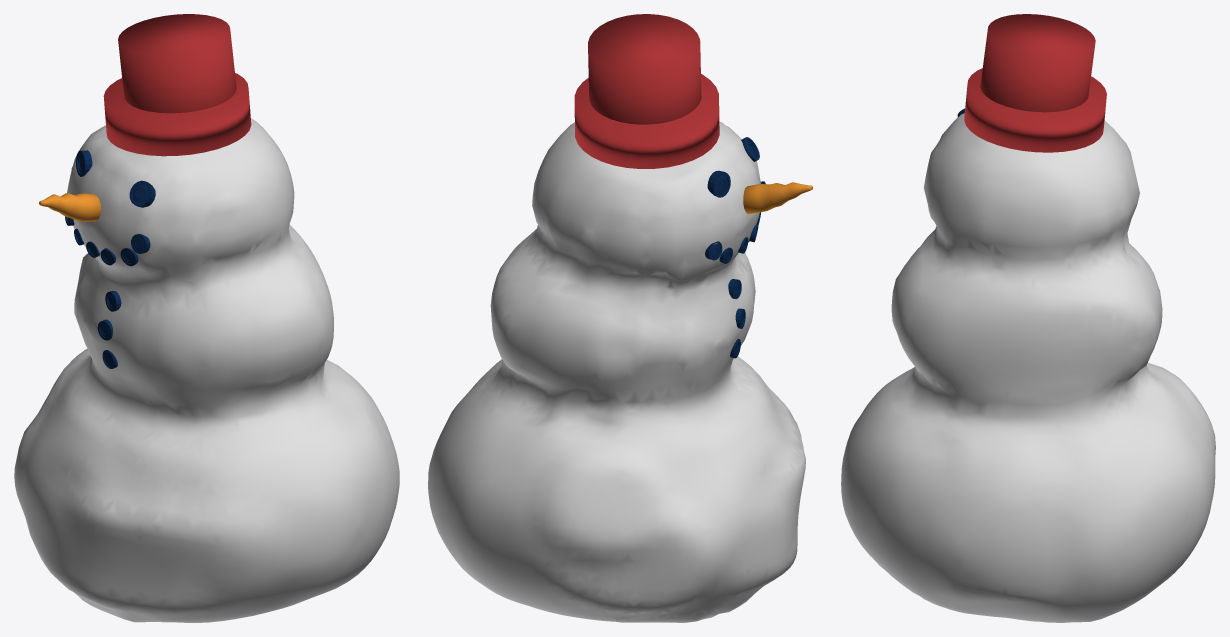
File: snowman.gltf
The picture shows the model from 3 angles, left to right: view 1: azimuth 30°, elevation 25°; view 2: azimuth 150°, elevation 25°; view 3: azimuth 270°, elevation 25°; orthographic projection. The views are drawn at different scales.
Parts seen in each view (by area): view 1: snowman, Cylinder.012, Cylinder.013, Cylinder.011, Cylinder; view 2: snowman, Cylinder.012, Cylinder.013, Cylinder.011; view 3: snowman, Cylinder.012, Cylinder.013.
Boxes of the visible parts, box(x1,y1,x2,y2) form: snowman: box(14, 118, 399, 622); Cylinder.012: box(118, 14, 236, 113); Cylinder.013: box(103, 73, 251, 156); Cylinder.011: box(39, 193, 101, 221); Cylinder: box(129, 180, 155, 207); snowman: box(428, 121, 805, 622); Cylinder.012: box(588, 14, 701, 124); Cylinder.013: box(574, 74, 719, 168); Cylinder.011: box(743, 182, 812, 214); snowman: box(841, 113, 1215, 622); Cylinder.012: box(980, 14, 1095, 112); Cylinder.013: box(964, 68, 1106, 152).
Bounding box in the file's own units: 1.78 × 2.8 × 1.76.
